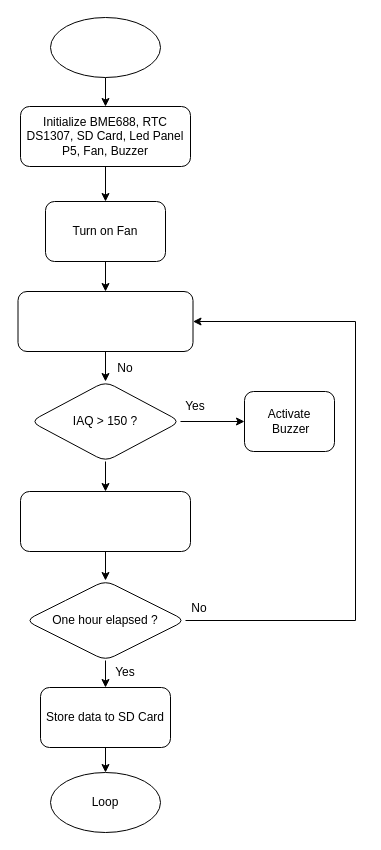
The diagram is 381 pixels wide and 850 high, and some of its shapes have lost their labels. Each missing label, with the box of its shape:
Display data on LED Panel P5: (20, 490, 190, 552)
Read Temp, Hum, Press, IAQ, CO2, VOC: (17, 290, 193, 352)
START: (50, 16, 160, 78)
